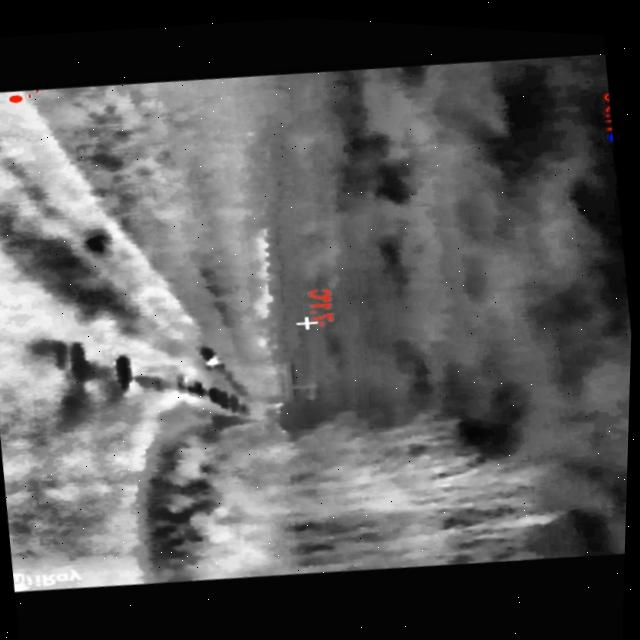drone: (206, 351, 224, 364)
